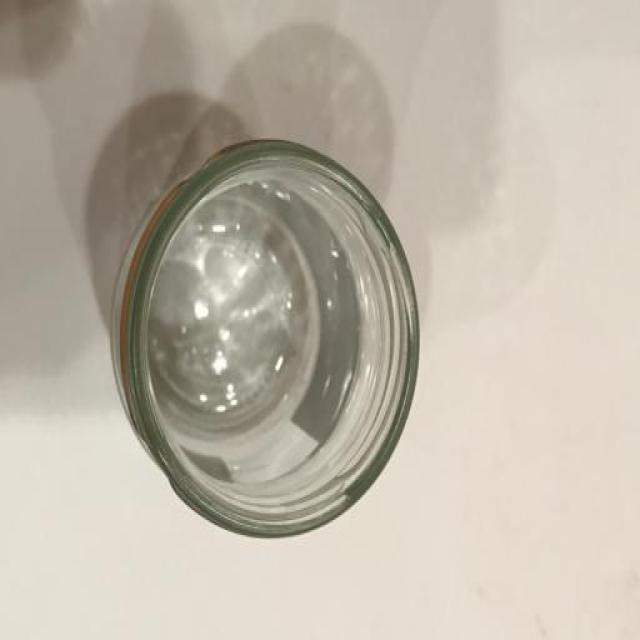glass: (110, 135, 422, 538)
